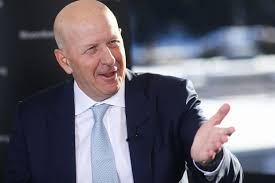no-mask: (49, 4, 127, 97)
